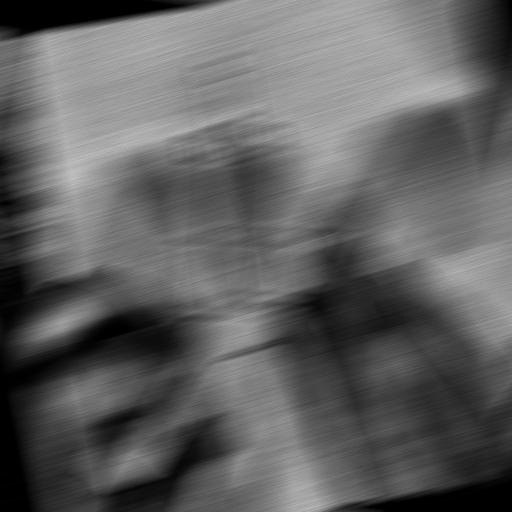eiffel-tower: (54, 9, 457, 512)
